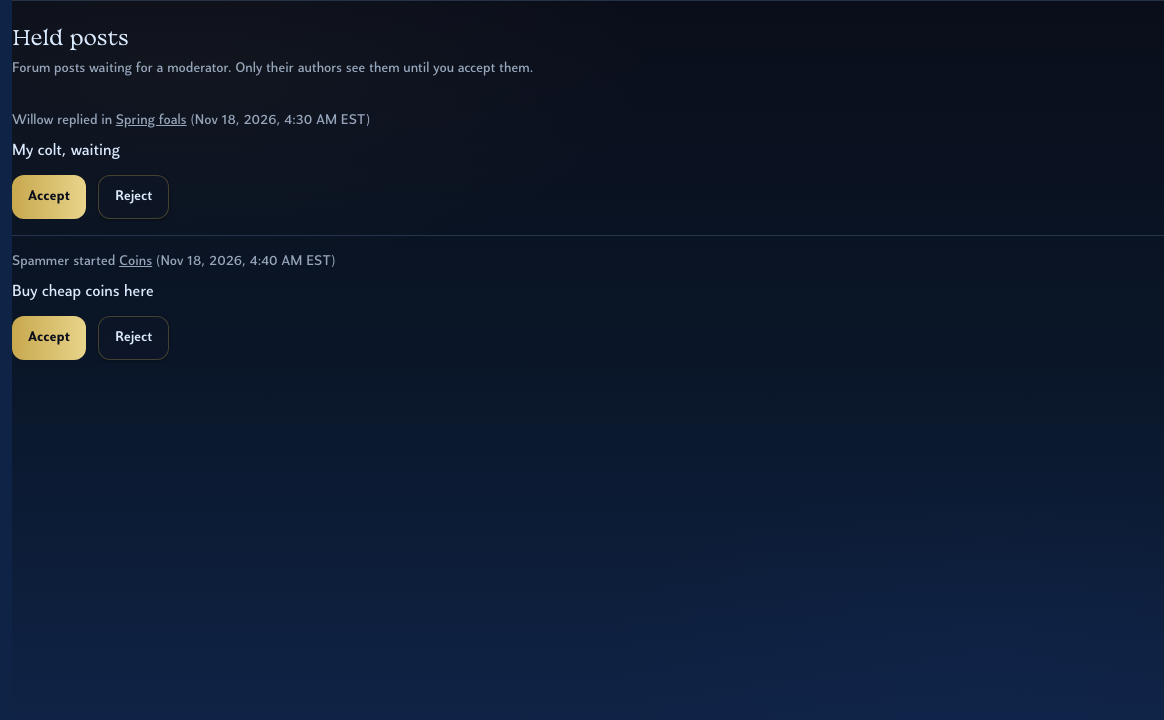
StaffHeldPosts › accepting a post sends it and the post leaves the list
Click the button "Accept" below "Willow" at (49, 197), box [12, 175, 86, 219]
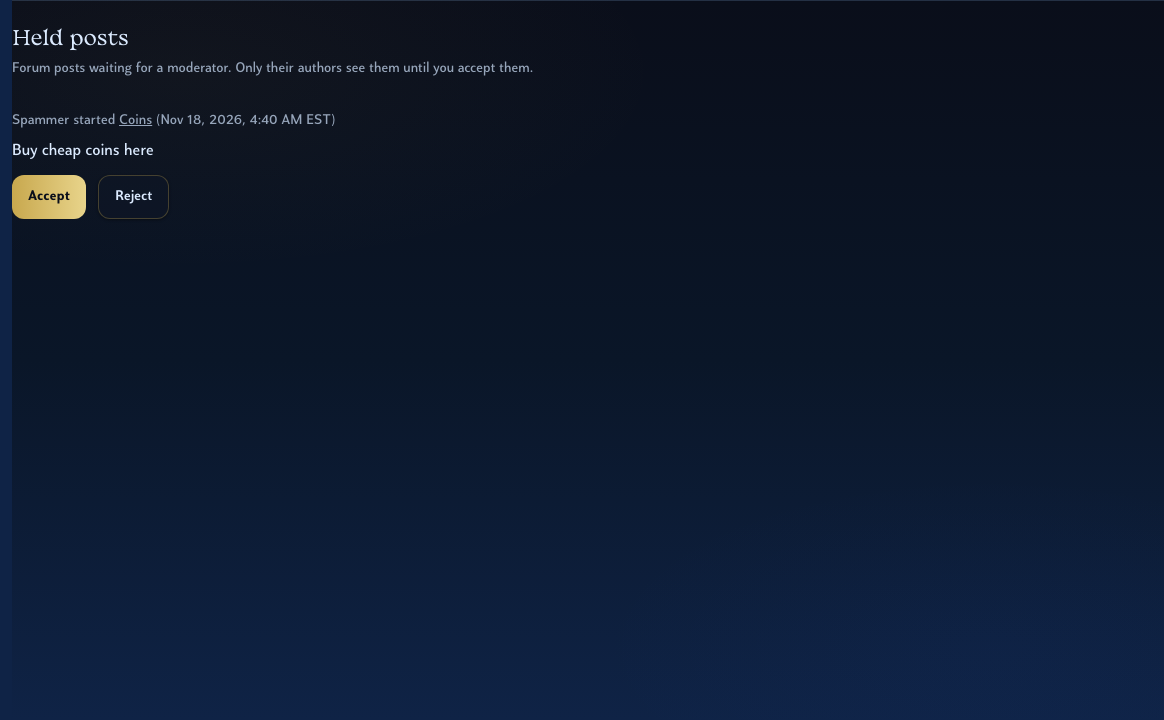
Expected: the list item with test id "held-post-72" is gone
